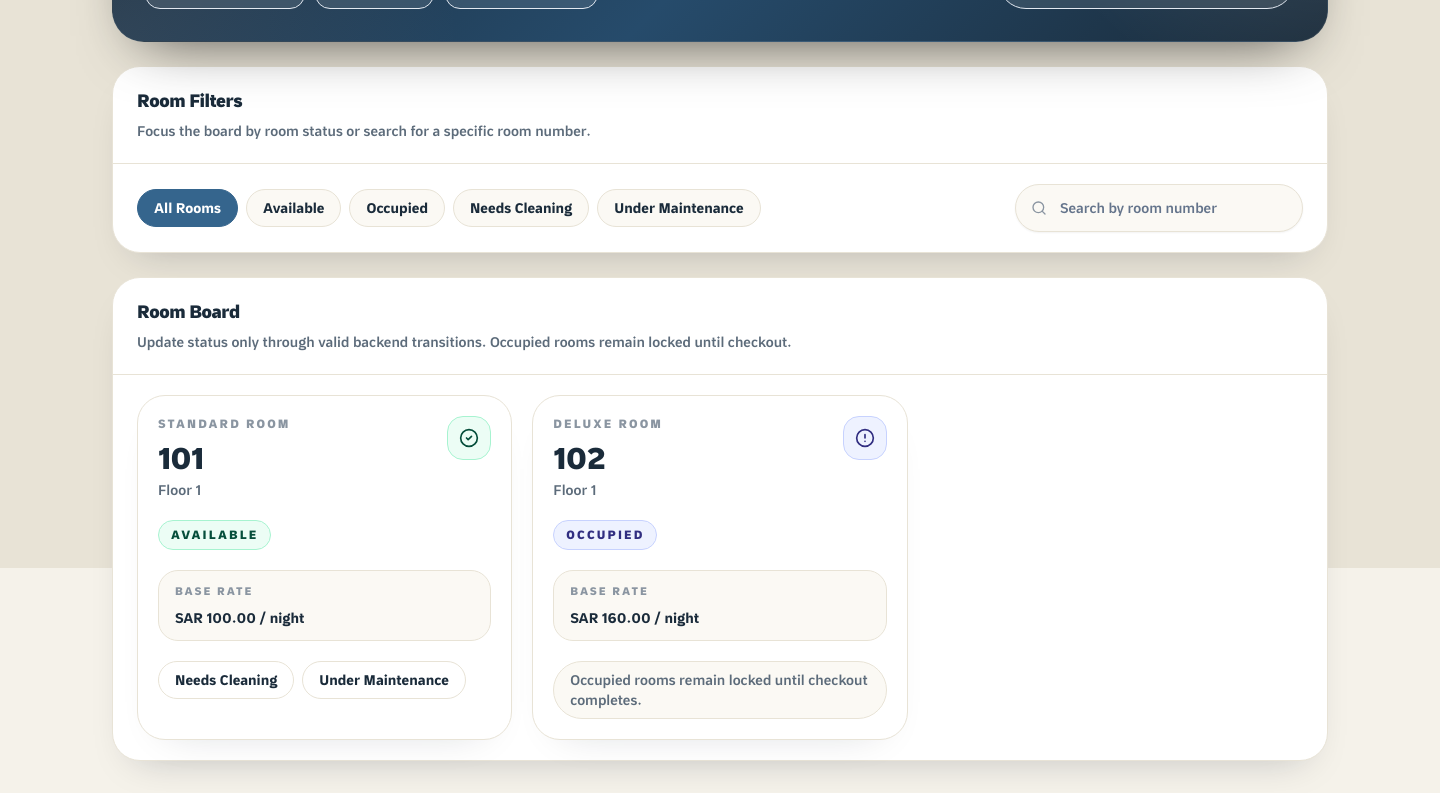
Test case: RoomStatus › shows only backend-provided next statuses and reports update success
This screenshot has width=1440, height=793.
(page scrolled)
Check: the text "101" is shown, box [158,439,203,477]
Check: the button "Needs Cleaning" below "SAR 100.00" is shown, box [158,660,294,698]
Click the button "Under Maintenance" below "SAR 100.00" at (384, 680), box [302,660,466,698]
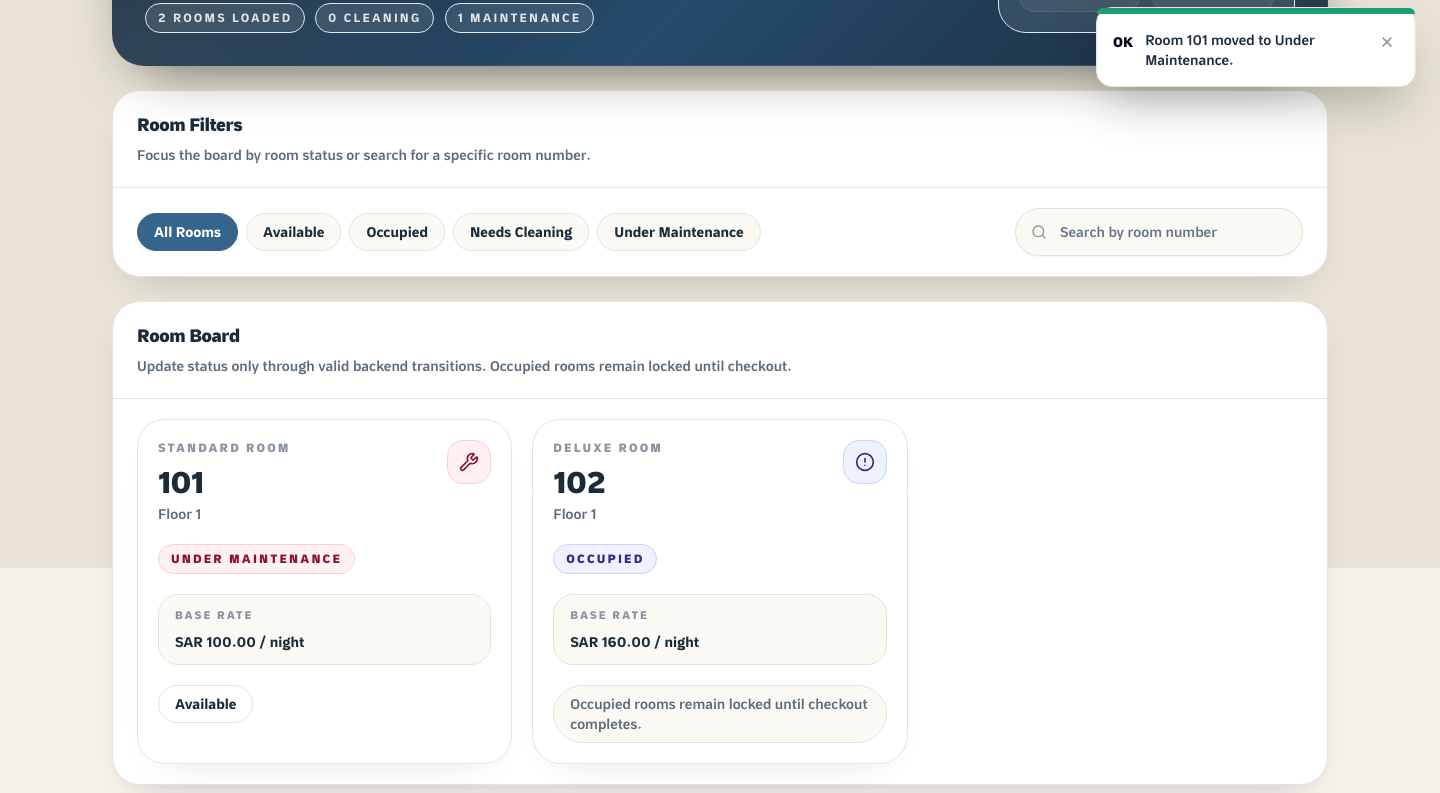
Check: the text "Room 101 moved to Under Maintenance." is shown, box [1145,31,1315,69]
